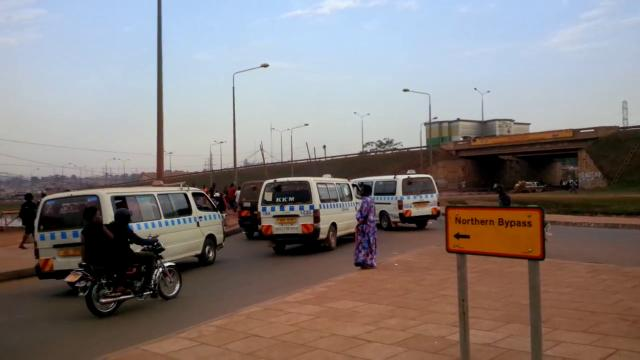motorcycle: (89, 209, 178, 318)
van: (30, 184, 226, 281), (254, 174, 350, 251), (380, 171, 441, 228), (238, 180, 261, 238)
